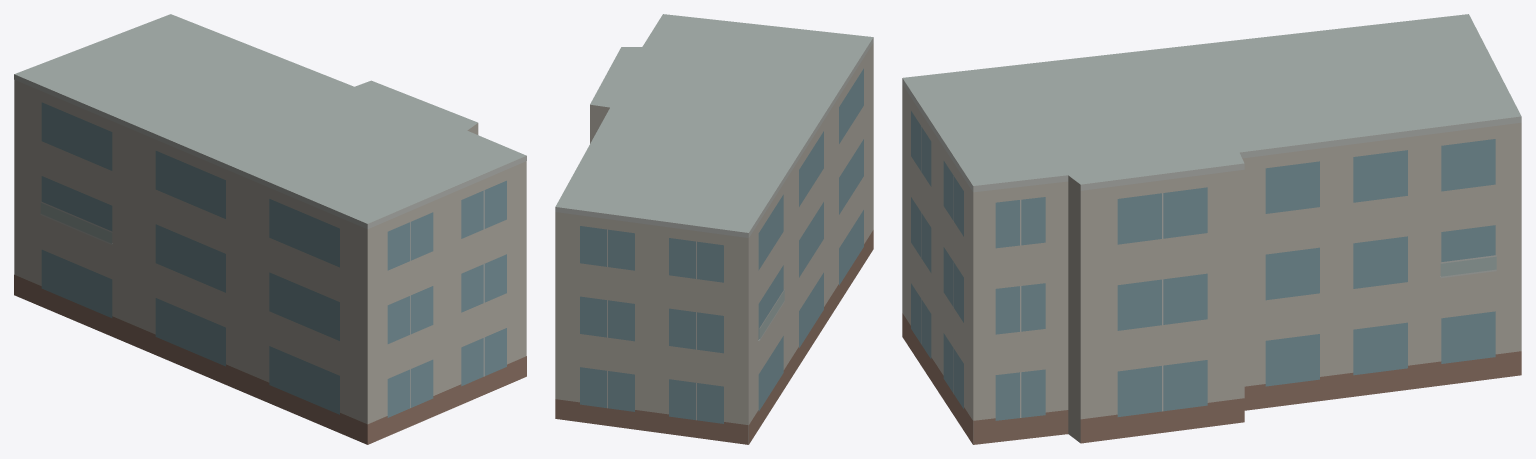
Rendered from survey-upis-32620404.glb.
3 views of the same model, side by side, from view 1: azimuth 30°, elevation 25°; view 2: azimuth 150°, elevation 25°; view 3: azimuth 270°, elevation 25° (orthographic). The views are drawn at different scales.
Parts seen in each view (by area): view 1: survey-upis-32620404.tmp; view 2: survey-upis-32620404.tmp; view 3: survey-upis-32620404.tmp.
Boxes of the visible parts, x1,y1,x2,y2 form: survey-upis-32620404.tmp: (14, 14, 526, 444); survey-upis-32620404.tmp: (555, 14, 873, 444); survey-upis-32620404.tmp: (902, 14, 1521, 444).
Size of the model in its own units: 14.41 by 10.1 by 21.92.
